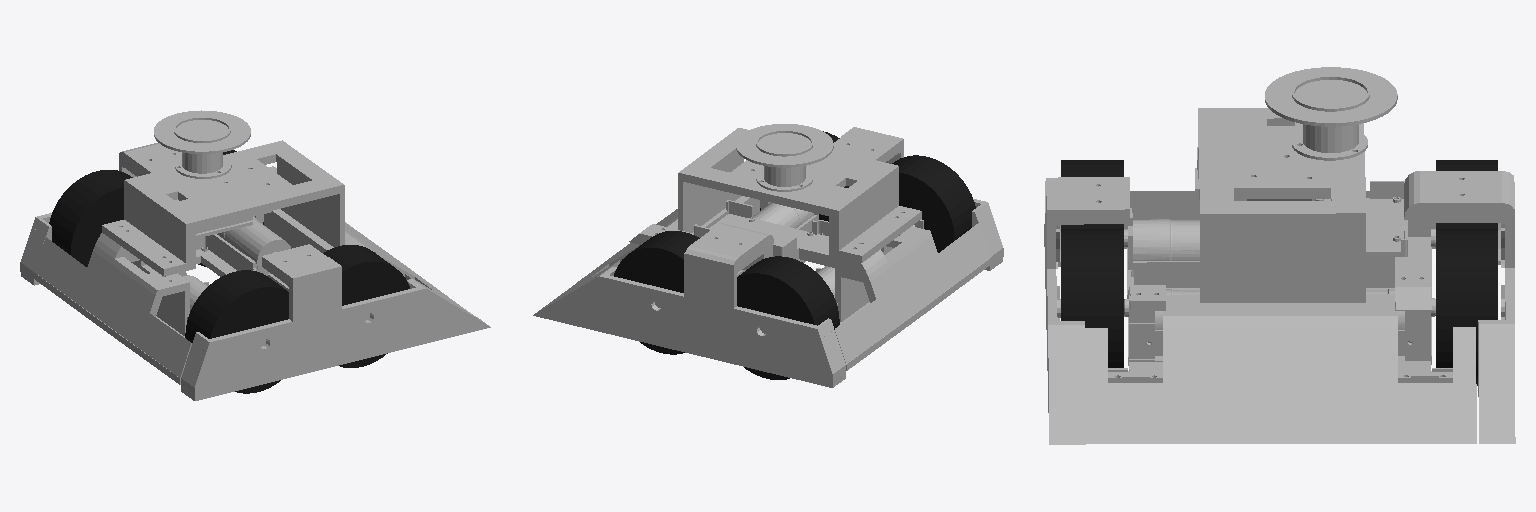
The robot description file, URDF, robot "sumo":
<?xml version="1.0" encoding="utf-8"?>
<!--
  IRC 씨름로봇 URDF (ROS 2 Jazzy + Gazebo Harmonic)
  좌표 규칙: X = 앞, Y = 왼쪽, Z = 위 / 단위: m, kg, rad
  base_link 원점 = 바퀴 4개의 정중앙, 바퀴 축 높이 (바닥에서 0.05 m 위)
  숫자 출처: SolidWorks 어셈블리에서 뽑은 STL을 측정 (2026-11-25)
-->
<robot name="sumo">

  <!-- ===== 색 (RViz에서 보이는 색) ===== -->
  <material name="gray">  <color rgba="0.75 0.75 0.75 1.0"/> </material>
  <material name="black"> <color rgba="0.15 0.15 0.15 1.0"/> </material>

  <!-- ===================================================== -->
  <!-- 1. 몸체 (base_link): f1, f2, 모터, 파이, 뚜껑, 모자거치대 전부 -->
  <!-- ===================================================== -->
  <link name="base_link">

    <!-- visual: 화면에 보이는 모양. SolidWorks에서 뽑은 STL 그대로 -->
    <visual>
      <origin xyz="0 0 0" rpy="0 0 0"/>
      <geometry>
        <mesh filename="package://sumo_description/meshes/base_link.STL"/>
      </geometry>
      <material name="gray"/>
    </visual>

    <!-- collision: 충돌 계산용 모양. 계산이 빠르도록 단순한 박스로 -->
    <!-- 박스 크기 = 몸체 전체 크기(모자거치대 제외): 길이 302 x 폭 301 x 높이 121 mm -->
    <collision>
      <origin xyz="0.0267 0 0.0212" rpy="0 0 0"/>
      <geometry>
        <box size="0.3022 0.3007 0.1207"/>
      </geometry>
    </collision>

    <!-- inertial: 무게와 관성. 로봇 전체 3.8 kg - 바퀴 4개(0.1 kg씩) = 3.4 kg -->
    <!-- 관성값은 위 박스를 꽉 찬 상자로 보고 계산: I = m/12 * (가로^2 + 세로^2) -->
    <inertial>
      <origin xyz="0.0267 0 0.0212" rpy="0 0 0"/>
      <mass value="3.4"/>
      <inertia ixx="0.029747" ixy="0" ixz="0"
               iyy="0.030003" iyz="0"
               izz="0.051495"/>
    </inertial>
  </link>

  <!-- ===================================================== -->
  <!-- 2. 바퀴 4개 (모두 같은 모양: 지름 100 mm, 폭 40 mm)       -->
  <!--    wheel.STL은 바퀴 축이 Y방향이라 회전 없이 그대로 씀     -->
  <!--    관성: 원통 공식 Iyy = m*r^2/2, Ixx = Izz = m*(3r^2+h^2)/12 -->
  <!-- ===================================================== -->

  <!-- 앞왼쪽 바퀴 (SolidWorks 바퀴-4) -->
  <link name="front_left_wheel">
    <visual>
      <geometry> <mesh filename="package://sumo_description/meshes/wheel.STL"/> </geometry>
      <material name="black"/>
    </visual>
    <collision>
      <!-- URDF 원통은 기본이 Z축 방향이라, X축으로 90도(1.5708 rad) 돌려서 Y축 방향으로 눕힘 -->
      <origin xyz="0 0 0" rpy="1.5708 0 0"/>
      <geometry> <cylinder radius="0.05" length="0.04"/> </geometry>
    </collision>
    <inertial>
      <mass value="0.1"/>
      <inertia ixx="7.583e-05" ixy="0" ixz="0" iyy="1.25e-04" iyz="0" izz="7.583e-05"/>
    </inertial>
  </link>

  <!-- 앞오른쪽 바퀴 (SolidWorks 바퀴-3) -->
  <link name="front_right_wheel">
    <visual>
      <geometry> <mesh filename="package://sumo_description/meshes/wheel.STL"/> </geometry>
      <material name="black"/>
    </visual>
    <collision>
      <origin xyz="0 0 0" rpy="1.5708 0 0"/>
      <geometry> <cylinder radius="0.05" length="0.04"/> </geometry>
    </collision>
    <inertial>
      <mass value="0.1"/>
      <inertia ixx="7.583e-05" ixy="0" ixz="0" iyy="1.25e-04" iyz="0" izz="7.583e-05"/>
    </inertial>
  </link>

  <!-- 뒤왼쪽 바퀴 (SolidWorks 바퀴-2) -->
  <link name="rear_left_wheel">
    <visual>
      <geometry> <mesh filename="package://sumo_description/meshes/wheel.STL"/> </geometry>
      <material name="black"/>
    </visual>
    <collision>
      <origin xyz="0 0 0" rpy="1.5708 0 0"/>
      <geometry> <cylinder radius="0.05" length="0.04"/> </geometry>
    </collision>
    <inertial>
      <mass value="0.1"/>
      <inertia ixx="7.583e-05" ixy="0" ixz="0" iyy="1.25e-04" iyz="0" izz="7.583e-05"/>
    </inertial>
  </link>

  <!-- 뒤오른쪽 바퀴 (SolidWorks 바퀴-1) -->
  <link name="rear_right_wheel">
    <visual>
      <geometry> <mesh filename="package://sumo_description/meshes/wheel.STL"/> </geometry>
      <material name="black"/>
    </visual>
    <collision>
      <origin xyz="0 0 0" rpy="1.5708 0 0"/>
      <geometry> <cylinder radius="0.05" length="0.04"/> </geometry>
    </collision>
    <inertial>
      <mass value="0.1"/>
      <inertia ixx="7.583e-05" ixy="0" ixz="0" iyy="1.25e-04" iyz="0" izz="7.583e-05"/>
    </inertial>
  </link>

  <!-- ===================================================== -->
  <!-- 3. 관절 (joint): 몸체와 바퀴를 연결                       -->
  <!--    continuous = 끝없이 계속 도는 회전 관절 (바퀴용)          -->
  <!--    origin = 몸체 원점에서 바퀴 중심까지 거리                  -->
  <!--      앞뒤 간격 105 mm  -> x = +-0.0525                     -->
  <!--      좌우 간격 239 mm  -> y = +-0.1196                     -->
  <!--    axis 0 1 0 = Y축을 중심으로 회전                         -->
  <!-- ===================================================== -->
  <joint name="front_left_wheel_joint" type="continuous">
    <parent link="base_link"/>
    <child link="front_left_wheel"/>
    <origin xyz="0.0525 0.1196 0" rpy="0 0 0"/>
    <axis xyz="0 1 0"/>
  </joint>

  <joint name="front_right_wheel_joint" type="continuous">
    <parent link="base_link"/>
    <child link="front_right_wheel"/>
    <origin xyz="0.0525 -0.1196 0" rpy="0 0 0"/>
    <axis xyz="0 1 0"/>
  </joint>

  <joint name="rear_left_wheel_joint" type="continuous">
    <parent link="base_link"/>
    <child link="rear_left_wheel"/>
    <origin xyz="-0.0525 0.1196 0" rpy="0 0 0"/>
    <axis xyz="0 1 0"/>
  </joint>

  <joint name="rear_right_wheel_joint" type="continuous">
    <parent link="base_link"/>
    <child link="rear_right_wheel"/>
    <origin xyz="-0.0525 -0.1196 0" rpy="0 0 0"/>
    <axis xyz="0 1 0"/>
  </joint>

  <!-- ===================================================== -->
  <!-- 4. Gazebo 전용 설정 (RViz는 이 부분을 무시함)              -->
  <!-- ===================================================== -->

  <!-- 바퀴 마찰계수: mu1 = 굴러가는 방향, mu2 = 옆 방향 -->
  <gazebo reference="front_left_wheel">  <mu1>1.0</mu1> <mu2>1.0</mu2> </gazebo>
  <gazebo reference="front_right_wheel"> <mu1>1.0</mu1> <mu2>1.0</mu2> </gazebo>
  <gazebo reference="rear_left_wheel">   <mu1>1.0</mu1> <mu2>1.0</mu2> </gazebo>
  <gazebo reference="rear_right_wheel">  <mu1>1.0</mu1> <mu2>1.0</mu2> </gazebo>

  <gazebo>
    <!-- 차동구동 플러그인: /cmd_vel(전진 속도, 회전 속도)을 받아서 좌우 바퀴를 돌림 -->
    <!-- 4륜이라 왼쪽 2개, 오른쪽 2개를 각각 한 묶음으로 같이 돌림 (스키드 스티어) -->
    <plugin filename="gz-sim-diff-drive-system" name="gz::sim::systems::DiffDrive">
      <left_joint>front_left_wheel_joint</left_joint>
      <left_joint>rear_left_wheel_joint</left_joint>
      <right_joint>front_right_wheel_joint</right_joint>
      <right_joint>rear_right_wheel_joint</right_joint>
      <wheel_separation>0.2392</wheel_separation>   <!-- 좌우 바퀴 중심 간격 (m) -->
      <wheel_radius>0.05</wheel_radius>             <!-- 바퀴 반지름 (m) -->
      <topic>/cmd_vel</topic>
      <odom_topic>/odom</odom_topic>
      <frame_id>odom</frame_id>
      <child_frame_id>base_link</child_frame_id>
      <odom_publisher_frequency>30</odom_publisher_frequency>
    </plugin>

    <!-- 바퀴 관절 각도를 /joint_states 로 내보냄 (robot_state_publisher가 받아서 바퀴 위치 계산) -->
    <plugin filename="gz-sim-joint-state-publisher-system" name="gz::sim::systems::JointStatePublisher">
      <topic>/joint_states</topic>
    </plugin>
  </gazebo>

</robot>

--- Facts derived from the render (not from the file) ---
Views: 3 orthographic renders of the robot side by side, from view 1: azimuth 30°, elevation 25°; view 2: azimuth 150°, elevation 25°; view 3: azimuth 270°, elevation 25°.
Model sumo with 5 links and 4 joints (4 continuous), rooted at base_link, posed all joints at 0.
Links seen in each view (by area): view 1: base_link, rear_right_wheel, rear_left_wheel, front_right_wheel; view 2: base_link, rear_left_wheel, rear_right_wheel, front_left_wheel; view 3: base_link, front_left_wheel, front_right_wheel, rear_right_wheel, rear_left_wheel.
Boxes of the visible links, left/top/right/bottom form: base_link: left=20, top=110, right=490, bottom=400; rear_right_wheel: left=185, top=270, right=288, bottom=393; rear_left_wheel: left=49, top=170, right=132, bottom=266; front_right_wheel: left=323, top=245, right=409, bottom=367; base_link: left=533, top=124, right=1003, bottom=387; rear_left_wheel: left=737, top=256, right=839, bottom=379; rear_right_wheel: left=892, top=155, right=975, bottom=252; front_left_wheel: left=614, top=231, right=699, bottom=354; base_link: left=1044, top=67, right=1515, bottom=444; front_left_wheel: left=1436, top=229, right=1497, bottom=385; front_right_wheel: left=1061, top=229, right=1123, bottom=367; rear_right_wheel: left=1061, top=160, right=1123, bottom=228; rear_left_wheel: left=1436, top=160, right=1497, bottom=228.
Size in the robot's own frame: 0.3023 by 0.3008 by 0.173 metres.
5 mesh visuals loaded from 2 distinct referenced files (2 binary STL).
